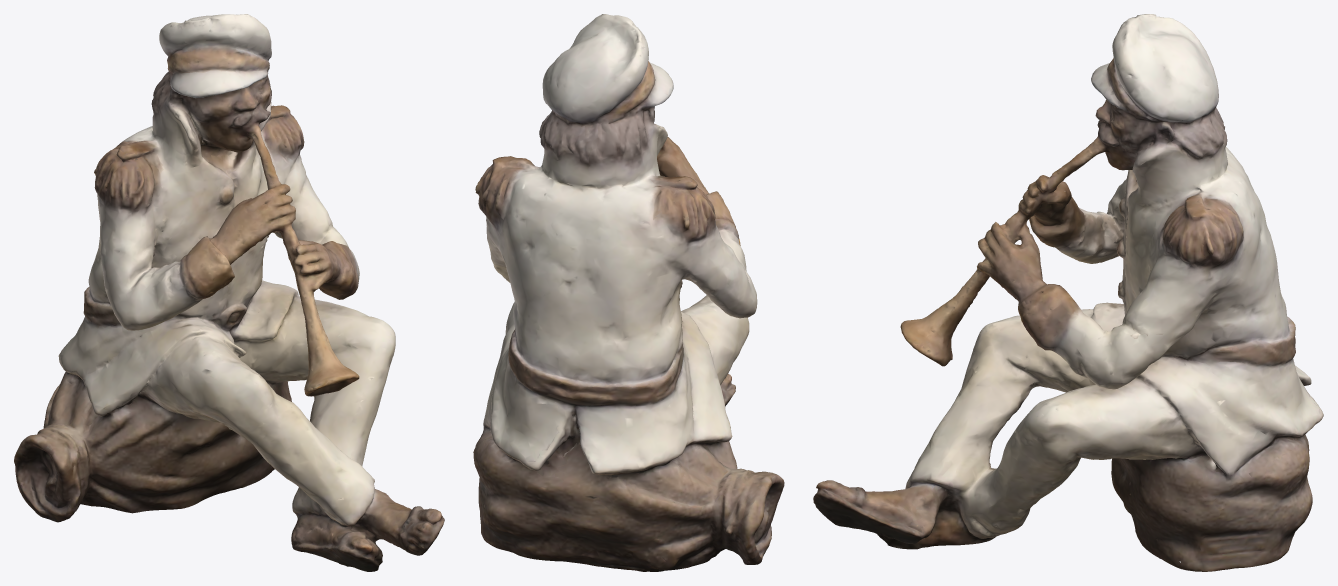
File: khanna-davinder-raj-tutu-walae.glb
The picture shows the model from 3 angles, left to right: view 1: azimuth 30°, elevation 25°; view 2: azimuth 150°, elevation 25°; view 3: azimuth 270°, elevation 25°; orthographic projection. The views are drawn at different scales.
Visible parts, largest first — view 1: SculptureE_010; view 2: SculptureE_010; view 3: SculptureE_010.
Part boxes in pixels (<box>): SculptureE_010: <box>14,14,444,571</box>; SculptureE_010: <box>473,14,784,571</box>; SculptureE_010: <box>813,14,1323,571</box>.
Bounding box in the file's own units: 0.3319 × 0.5 × 0.4573.
1 material, 1 textured.
